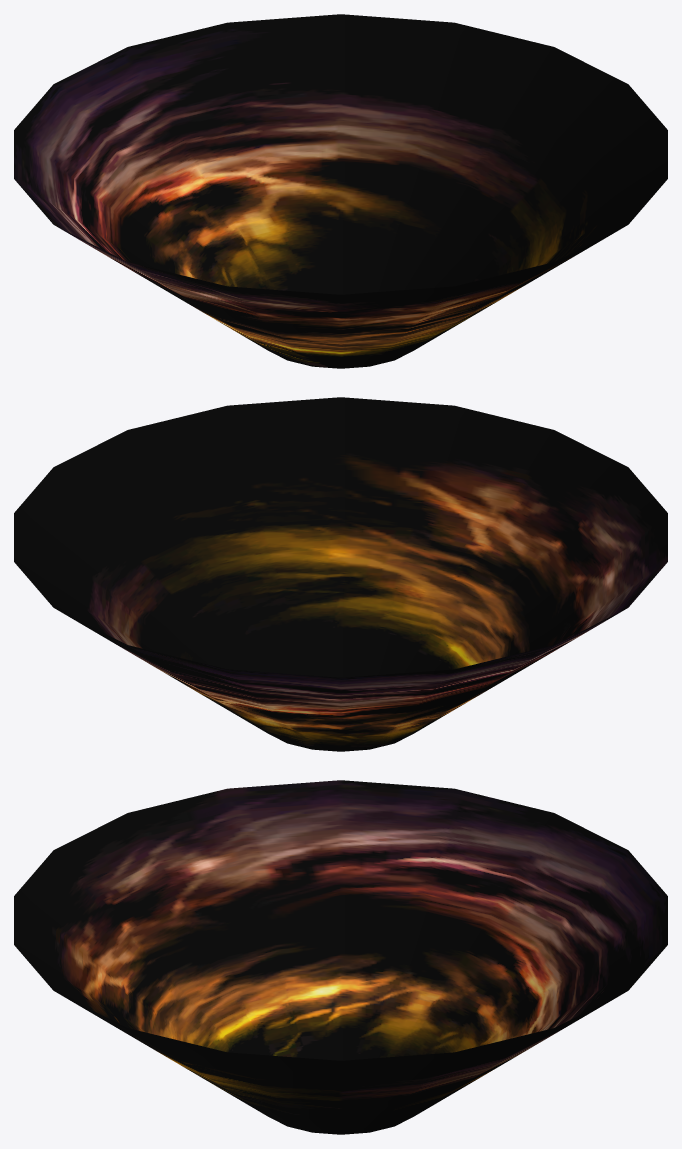
3 renders of one model, top to bottom at view 1: azimuth 30°, elevation 25°; view 2: azimuth 150°, elevation 25°; view 3: azimuth 270°, elevation 25°, orthographic.
Visible parts, largest first — view 1: Cone003; view 2: Cone003; view 3: Cone003.
Part boxes in pixels (x1=…): Cone003: x1=14, y1=14, x2=667, y2=368; Cone003: x1=14, y1=397, x2=667, y2=751; Cone003: x1=14, y1=780, x2=667, y2=1134.
Size of the model in its own units: 184 by 181 by 54.78.
Materials: 1 (1 with a texture image).
